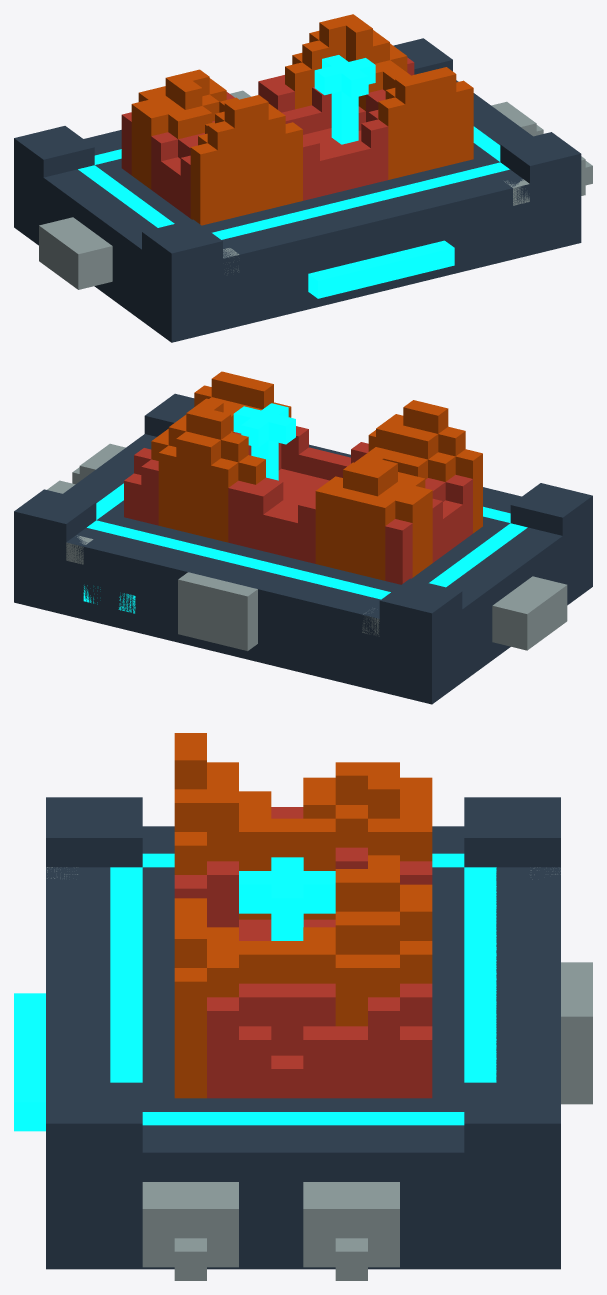
Rendered from HiRISE Orbital Map.glb.
3 renders of one model, top to bottom at view 1: azimuth 30°, elevation 25°; view 2: azimuth 150°, elevation 25°; view 3: azimuth 270°, elevation 25°, orthographic. The views are drawn at different scales.
Visible parts, largest first — view 1: Carcasa, Relieve_Oxido, Pantalla_Interfaz, Relieve_Terracota, Conectores; view 2: Carcasa, Relieve_Oxido, Relieve_Terracota, Conectores, Pantalla_Interfaz; view 3: Carcasa, Relieve_Oxido, Relieve_Terracota, Pantalla_Interfaz, Conectores.
Part boxes in pixels (x1,y1,x2,y2): Carcasa: (14, 38, 581, 342); Relieve_Oxido: (131, 14, 473, 225); Pantalla_Interfaz: (78, 55, 509, 298); Relieve_Terracota: (121, 57, 414, 218); Conectores: (39, 90, 592, 289); Carcasa: (14, 393, 592, 704); Relieve_Oxido: (151, 371, 482, 580); Relieve_Terracota: (124, 426, 472, 584); Conectores: (47, 443, 567, 650); Pantalla_Interfaz: (83, 403, 527, 613); Carcasa: (46, 797, 560, 1269); Relieve_Oxido: (174, 733, 432, 1098); Relieve_Terracota: (174, 807, 432, 1098); Pantalla_Interfaz: (14, 853, 496, 1131); Conectores: (47, 867, 592, 1280).
Size of the model in its own units: 2.9 by 1 by 1.8.
